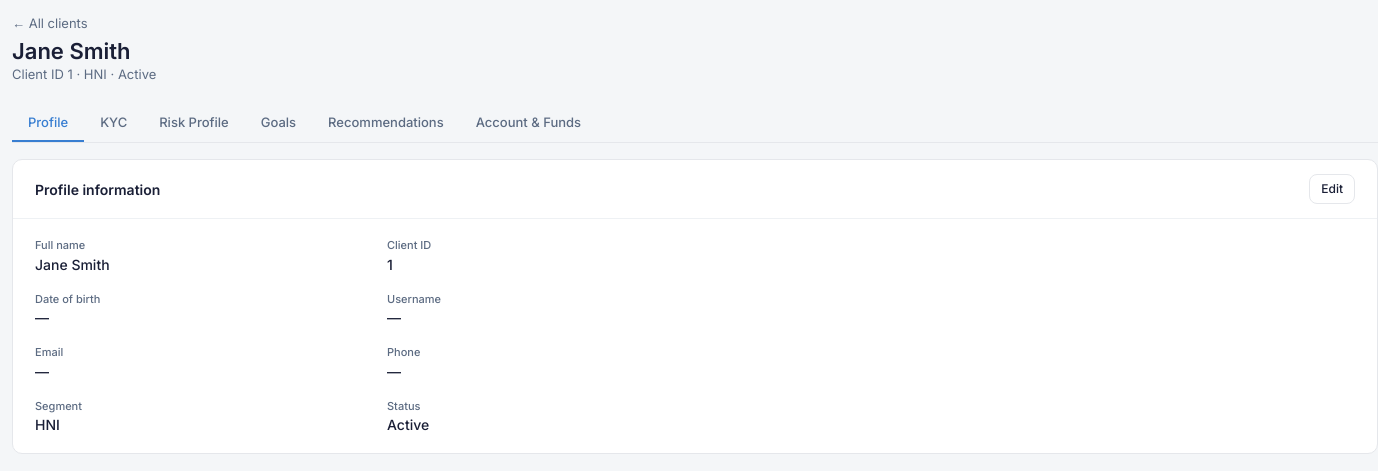
ClientDetail page › Account & Funds tab shows No PBOR account found when no account
What coordinates should you click on to do the following:
click the button "Account & Funds"
I would click on:
 (528, 123)
Its box is [460, 104, 597, 142].
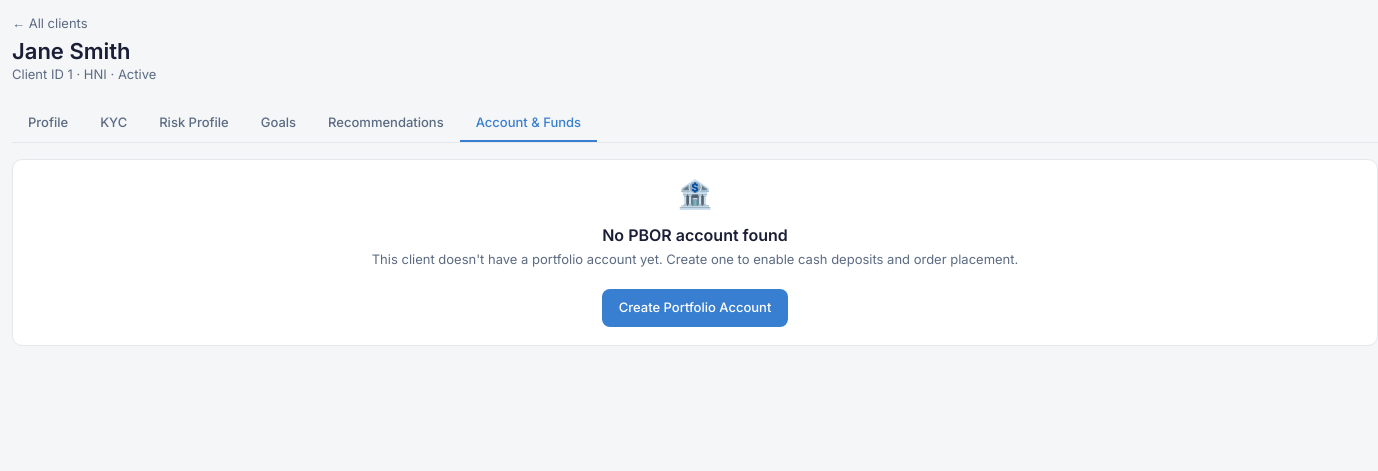
Now the text "No PBOR account found" is shown, box [602, 225, 788, 245]
